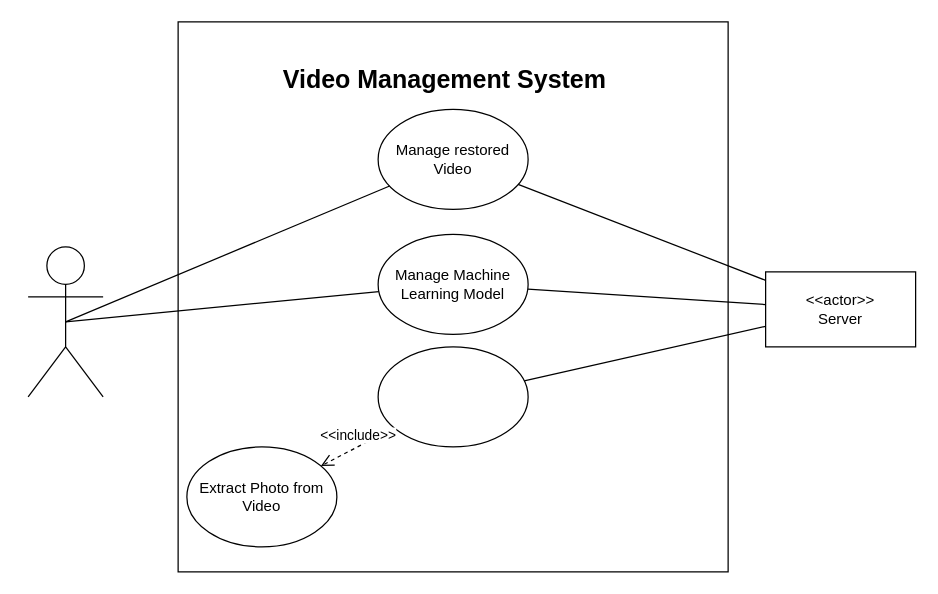
The diagram is 938 pixels wide and 594 high, and some of its shapes have lost their labels. Each missing label, with the box of its shape:
Administrator: (27, 246, 103, 397)
Determine Smoker or Not: (377, 346, 528, 447)
